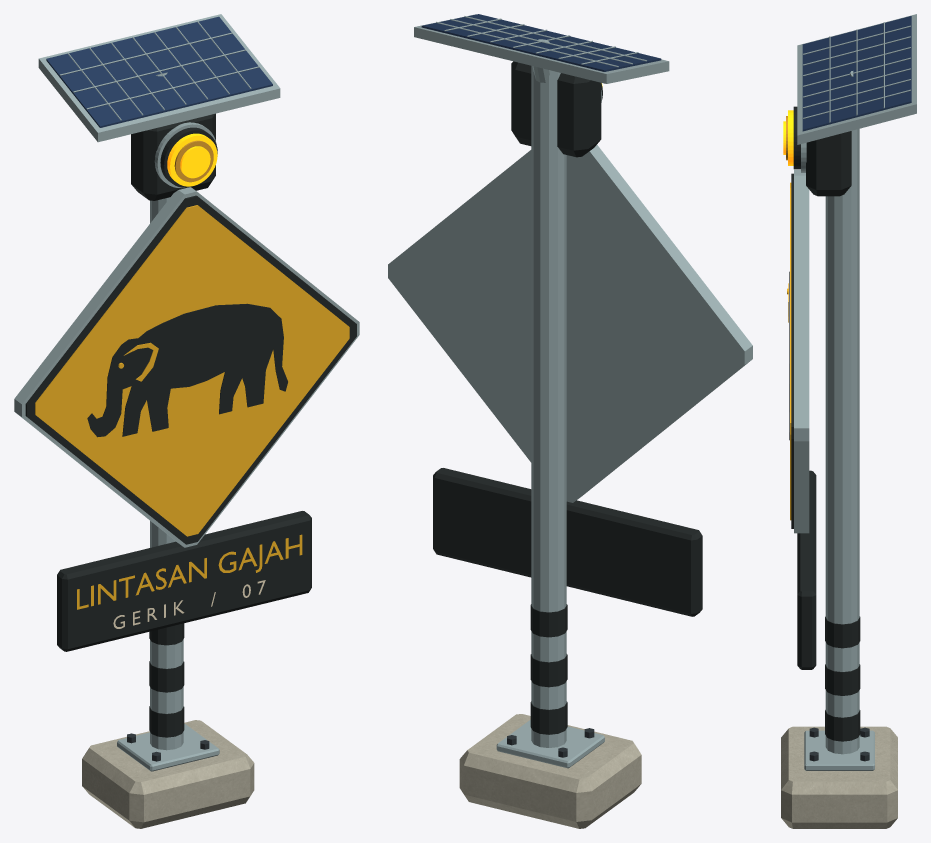
3 views of the same model, side by side, from view 1: azimuth 30°, elevation 25°; view 2: azimuth 150°, elevation 25°; view 3: azimuth 270°, elevation 25° (orthographic). The views are drawn at different scales.
Parts seen in each view (by area): view 1: Hemmed diamond sign, Supplementary plate, Solar collector, Elephant silhouette, Chamfered foundation, Fresnel signal, Beacon mounting ear, Fluted steel standard, Supplementary legend, Hazard bands, Galvanised sole plate, Cell busbars; view 2: Hemmed diamond sign, Supplementary plate, Fluted steel standard, Chamfered foundation, Solar collector, Beacon mounting ear, Hazard bands, Galvanised sole plate, Cell busbars; view 3: Fluted steel standard, Solar collector, Chamfered foundation, Hemmed diamond sign, Supplementary plate, Hazard bands, Beacon mounting ear, Cell busbars, Galvanised sole plate, Fresnel signal, Hex nuts.
Part boxes in pixels (x1,y1,x2,y2): Hemmed diamond sign: (14, 187, 359, 547); Supplementary plate: (57, 511, 311, 651); Solar collector: (38, 14, 280, 142); Elephant silhouette: (87, 303, 287, 437); Chamfered foundation: (82, 720, 254, 828); Fresnel signal: (154, 122, 217, 188); Beacon mounting ear: (131, 113, 215, 200); Fluted steel standard: (150, 197, 183, 750); Supplementary legend: (77, 534, 302, 628); Hazard bands: (149, 623, 184, 737); Galvanised sole plate: (117, 724, 219, 771); Cell busbars: (59, 21, 259, 120); Hemmed diamond sign: (388, 145, 752, 502); Supplementary plate: (433, 468, 702, 616); Fluted steel standard: (531, 66, 566, 747); Chamfered foundation: (459, 714, 641, 828); Solar collector: (414, 14, 669, 83); Beacon mounting ear: (511, 61, 601, 157); Hazard bands: (530, 604, 567, 734); Galvanised sole plate: (496, 720, 604, 768); Cell busbars: (436, 16, 646, 67); Fluted steel standard: (825, 129, 859, 754); Solar collector: (797, 14, 916, 144); Chamfered foundation: (781, 726, 897, 828); Hemmed diamond sign: (790, 169, 809, 533); Supplementary plate: (797, 470, 816, 669); Hazard bands: (825, 616, 860, 741); Beacon mounting ear: (806, 131, 851, 196); Cell busbars: (803, 22, 910, 122); Galvanised sole plate: (804, 730, 874, 770); Fresnel signal: (783, 106, 806, 172); Hex nuts: (809, 727, 869, 761).
Bounding box in the file's own units: 1.65 × 3.43 × 0.5675.
Materials: 9 (1 with a texture image).
